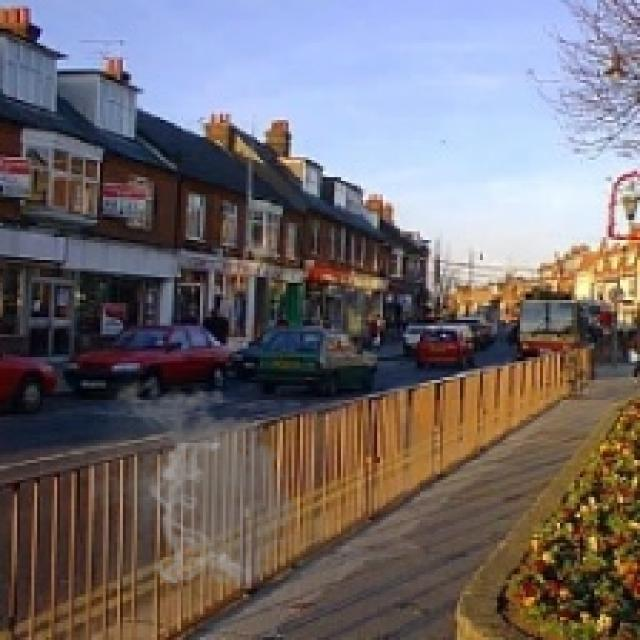Smoke: (88, 374, 312, 592)
